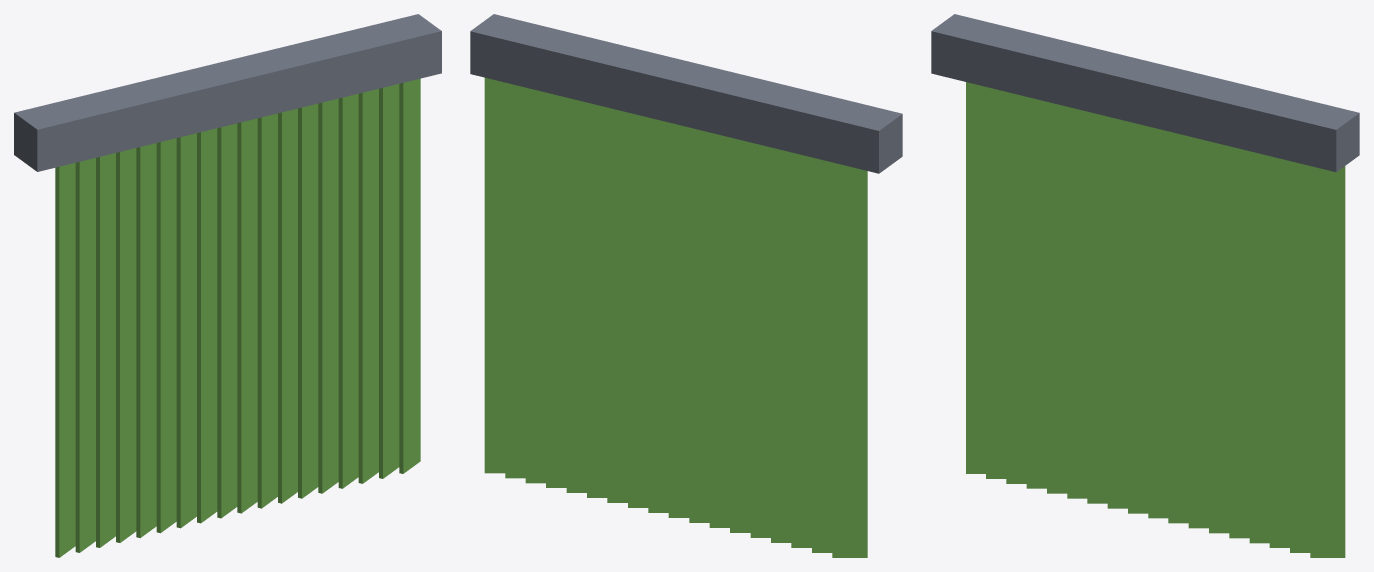
The model's file is Window.fbx.
3 views of the same model, side by side, from view 1: azimuth 30°, elevation 25°; view 2: azimuth 150°, elevation 25°; view 3: azimuth 330°, elevation 25° (orthographic).
Visible parts, largest first — view 1: Curtain_Holder, Curtain_Holder.001; view 2: Curtain_Holder, Curtain_Holder.001; view 3: Curtain_Holder, Curtain_Holder.001.
Boxes of the visible parts, box(x1,y1,x2,y2) form: Curtain_Holder: box(55, 78, 420, 557); Curtain_Holder.001: box(14, 14, 441, 171); Curtain_Holder: box(484, 77, 867, 557); Curtain_Holder.001: box(470, 14, 902, 173); Curtain_Holder: box(966, 82, 1345, 557); Curtain_Holder.001: box(931, 14, 1359, 172).
Bounding box in the file's own units: 2000 × 2078 × 200.
